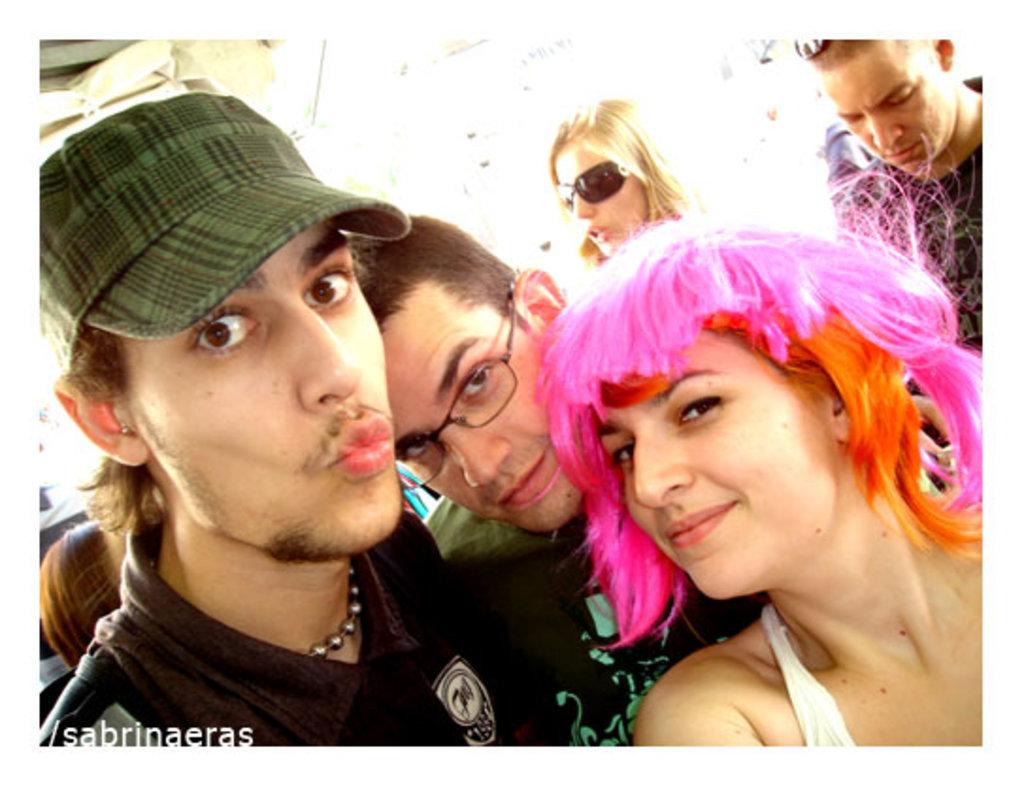Hat: (38, 88, 408, 342)
